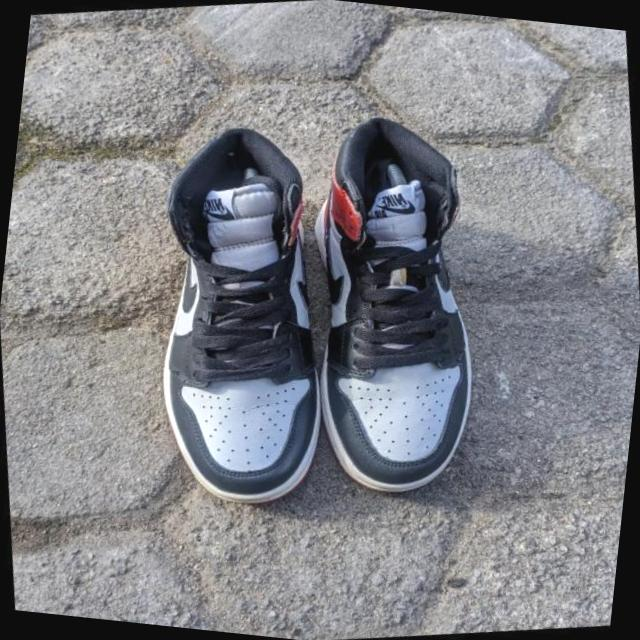nike_fake_jordan: (105, 106, 366, 524), (268, 99, 522, 512)
